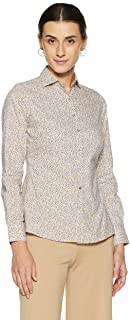shirt: (1, 66, 128, 245)
